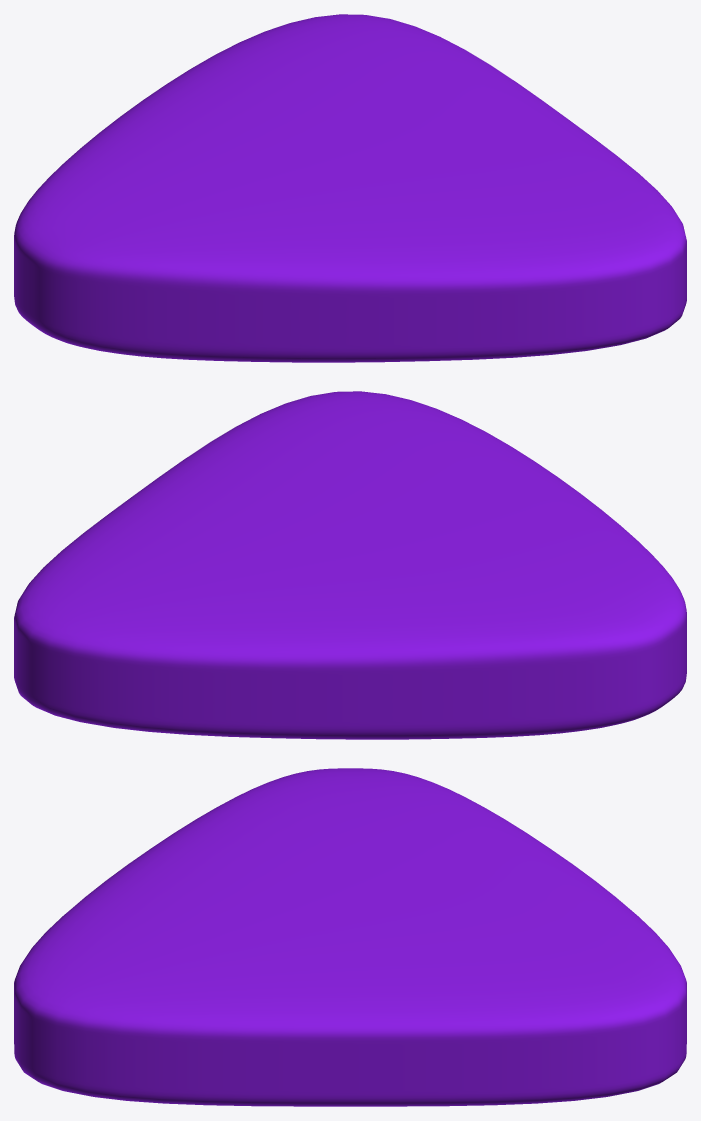
The model's file is Card_Triangle.fbx.
3 views of the same model, one above another, from view 1: azimuth 30°, elevation 25°; view 2: azimuth 150°, elevation 25°; view 3: azimuth 270°, elevation 25° (orthographic).
Parts seen in each view (by area): view 1: AARF.012; view 2: AARF.012; view 3: AARF.012.
Part boxes in pixels (<box>): AARF.012: <box>14,14,686,362</box>; AARF.012: <box>14,391,686,739</box>; AARF.012: <box>14,768,686,1106</box>.
Bounding box in the file's own units: 9.7 × 2 × 10.49.
